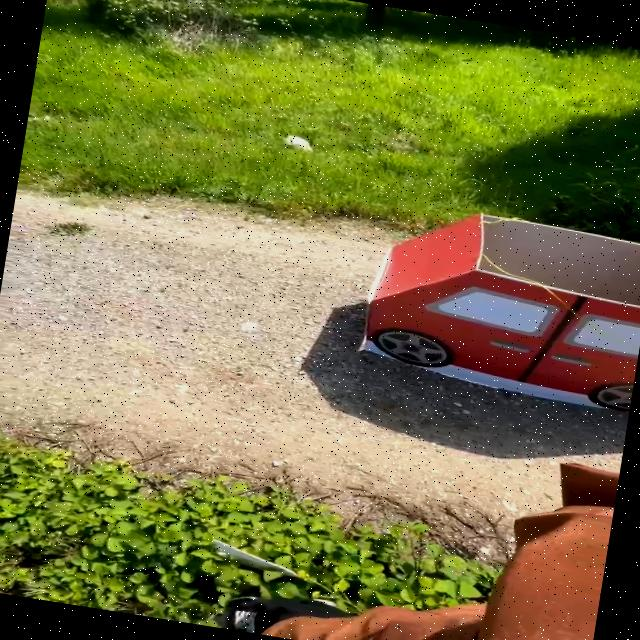red_car: (337, 181, 640, 423)
